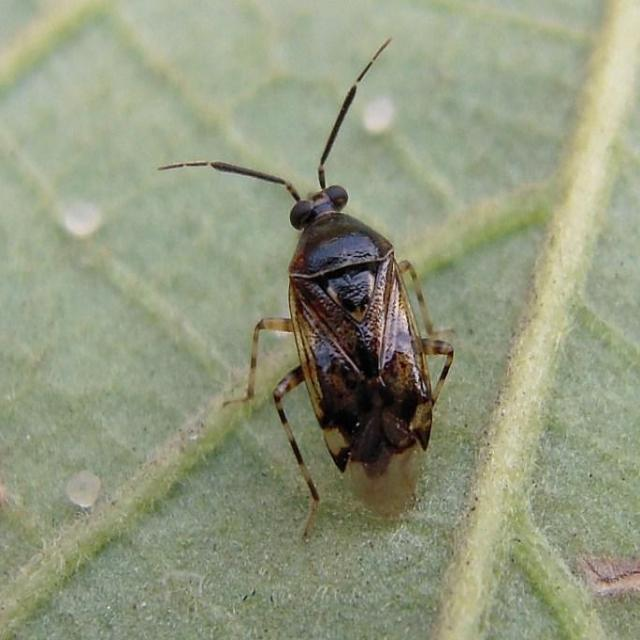Miridae-Adult-: (148, 31, 468, 528)
